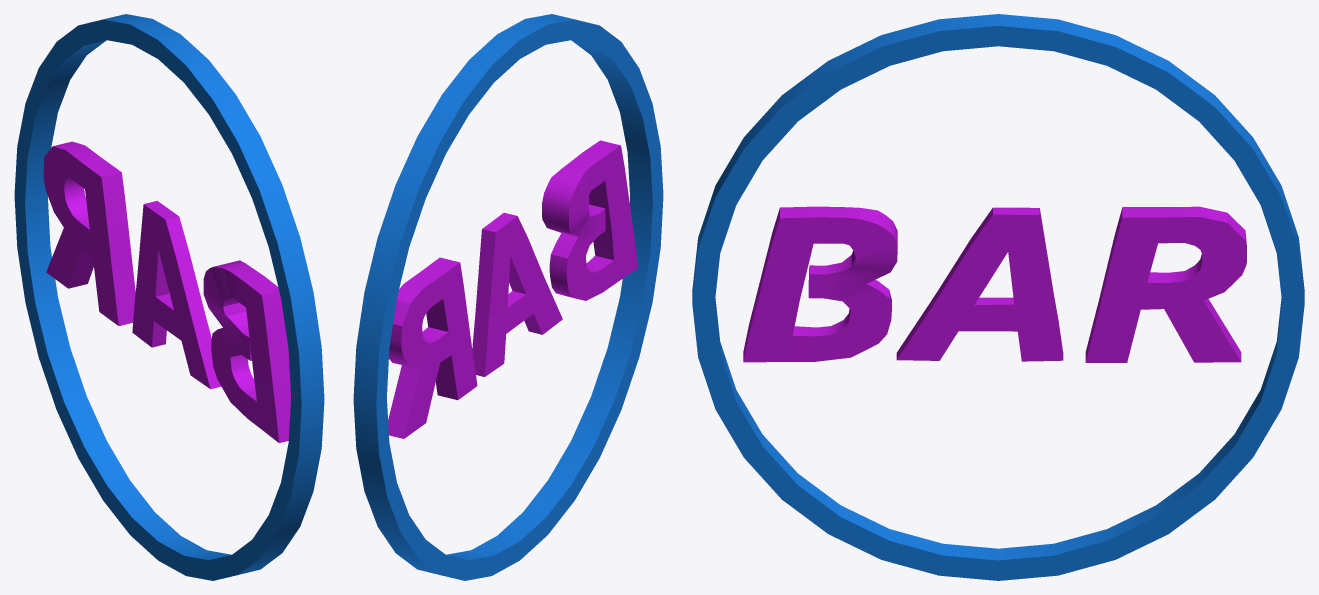
The model's file is BarCircle.fbx.
3 renders of one model, left to right at view 1: azimuth 30°, elevation 25°; view 2: azimuth 150°, elevation 25°; view 3: azimuth 270°, elevation 25°, orthographic. The views are drawn at different scales.
Visible parts, largest first — view 1: Circle; view 2: Circle; view 3: Circle.
Boxes of the visible parts, x1,y1,x2,y2 form: Circle: (14,14,324,580); Circle: (353,14,663,580); Circle: (692,14,1304,580).
Size of the model in its own units: 0.1079 by 2 by 2.
